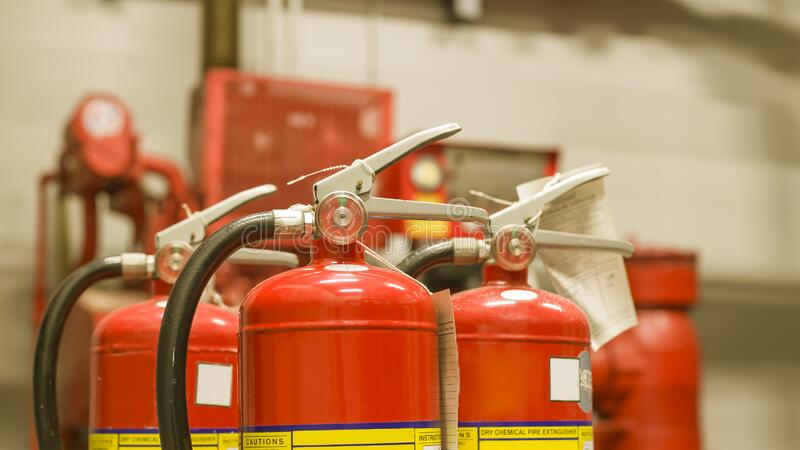fire_extinguisher: (33, 121, 631, 449), (153, 122, 483, 449), (32, 183, 300, 449), (391, 164, 631, 449), (394, 218, 596, 449), (591, 244, 704, 449)
